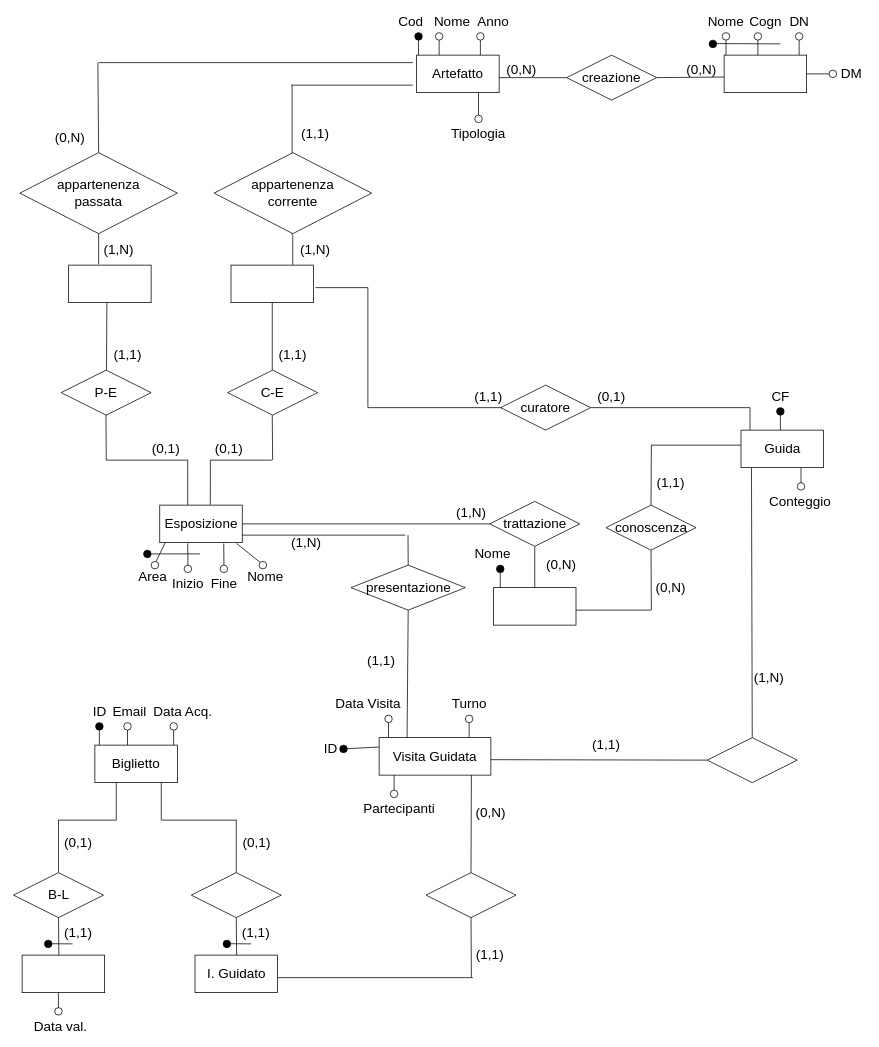
Some shapes in this 879 by 1047 pixel diagram are drawn without their labels. Here are the shapes that lost their labels. From the top down, the centre of each, then its label:
At [765,73]: "Artista".
At [109,283]: "Passata".
At [272,283]: "In_corso".
At [534,606]: "Argomento".
At [751,760]: "gestione".
At [235,895]: "B-G".
At [470,895]: "riferimento".
At [63,973]: "I. Libero".
